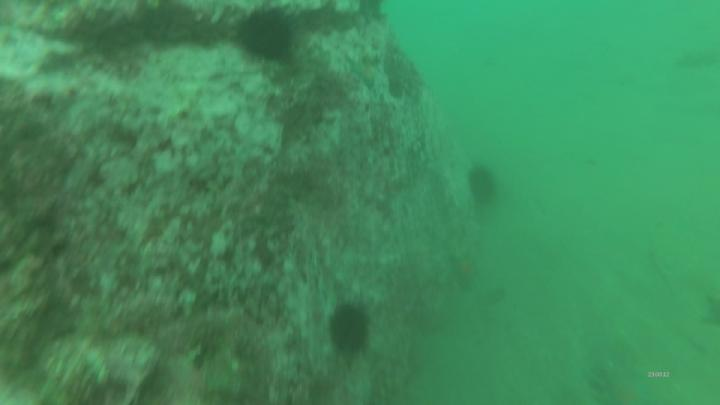echinus: (244, 12, 294, 61), (331, 306, 371, 350), (471, 168, 497, 201)
starfish: (451, 248, 481, 285)
